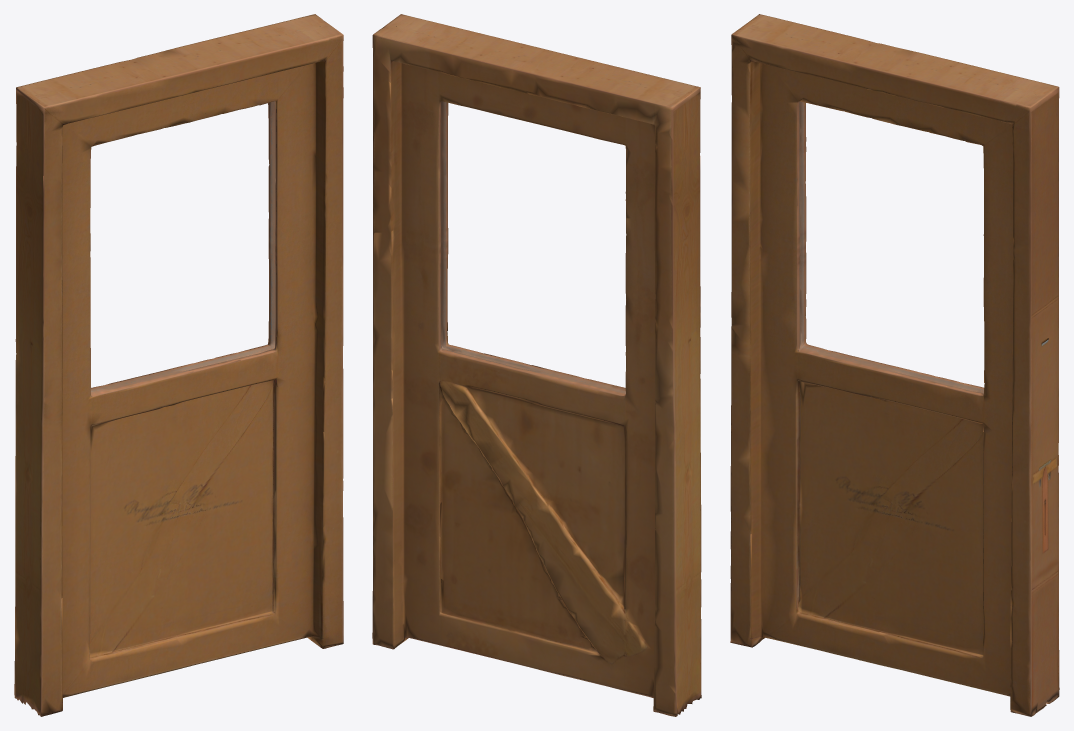
The model's file is puerta.glb.
3 renders of one model, left to right at view 1: azimuth 30°, elevation 25°; view 2: azimuth 150°, elevation 25°; view 3: azimuth 330°, elevation 25°, orthographic.
Size of the model in its own units: 1.04 by 2 by 0.1715.
Materials: 1 (1 with a texture image).
